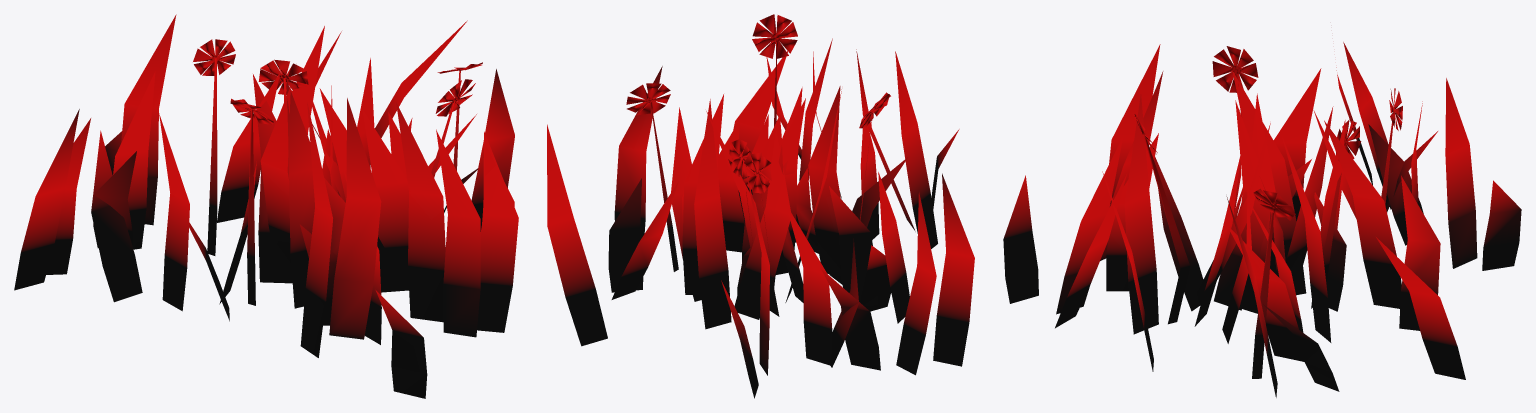
Rendered from Grasspoligonwithflowers2.fbx.
3 views of the same model, side by side, from view 1: azimuth 30°, elevation 25°; view 2: azimuth 150°, elevation 25°; view 3: azimuth 270°, elevation 25° (orthographic). The views are drawn at different scales.
Parts seen in each view (by area): view 1: Flor.004; view 2: Flor.004; view 3: Flor.004.
Boxes of the visible parts, bbox=[...] form: Flor.004: bbox=[14, 14, 518, 398]; Flor.004: bbox=[547, 14, 974, 398]; Flor.004: bbox=[1003, 42, 1521, 397].
Bounding box in the file's own units: 94.33 × 51.07 × 96.04.
